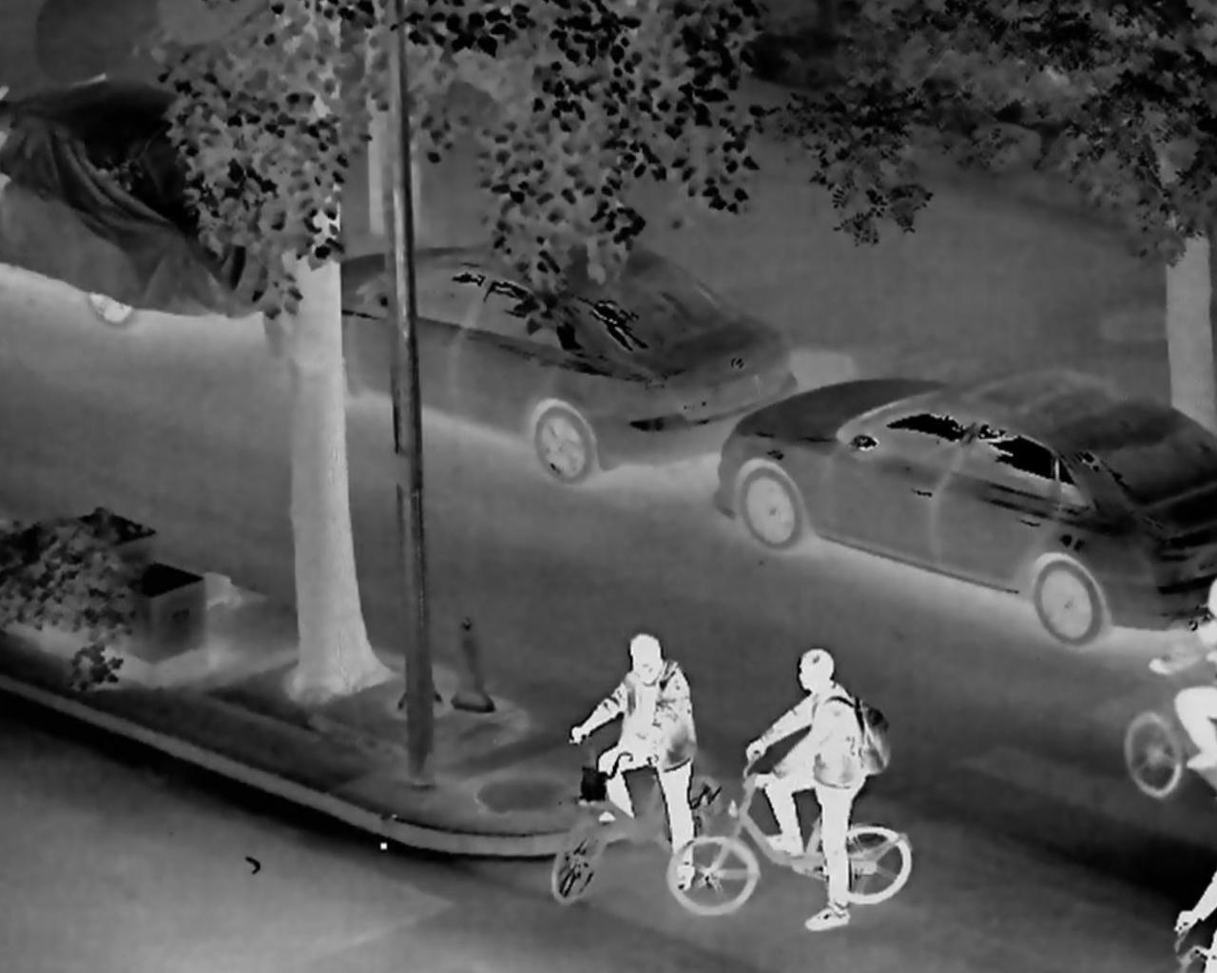person: (564, 619, 719, 896), (749, 629, 876, 938), (1151, 575, 1217, 769)
